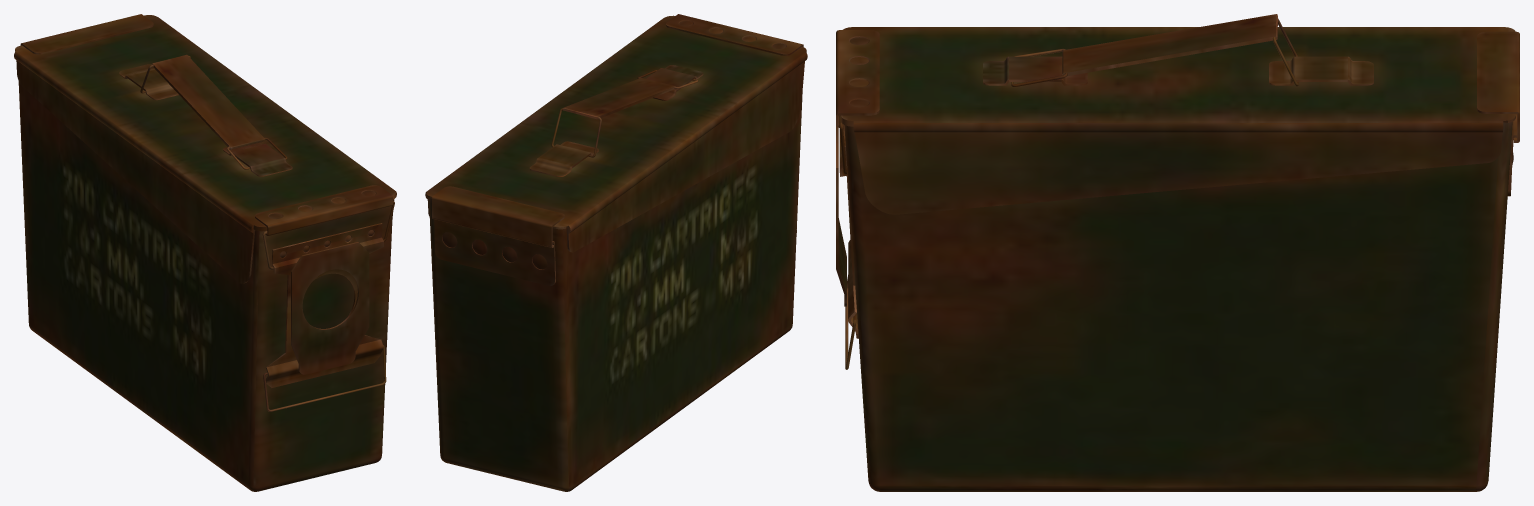
Rendered from ammobox.glb.
3 views of the same model, side by side, from view 1: azimuth 30°, elevation 25°; view 2: azimuth 150°, elevation 25°; view 3: azimuth 270°, elevation 25° (orthographic). The views are drawn at different scales.
Visible parts, largest first — view 1: m; view 2: m; view 3: m.
Part boxes in pixels (bbox=[...]): m: bbox=[14, 14, 396, 491]; m: bbox=[425, 14, 807, 491]; m: bbox=[836, 14, 1519, 491].
Size of the model in its own units: 0.0866 by 0.1775 by 0.2579.
1 material, 1 textured.
